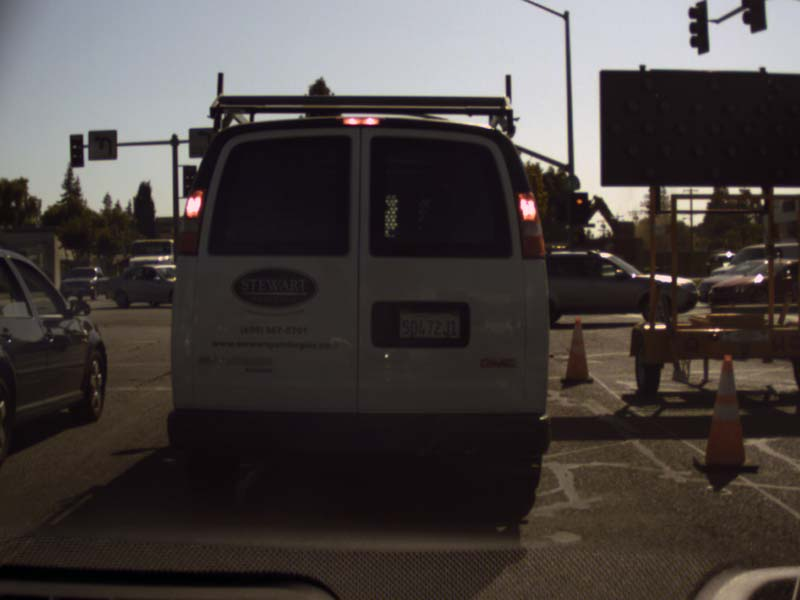Red: (571, 192, 586, 224)
